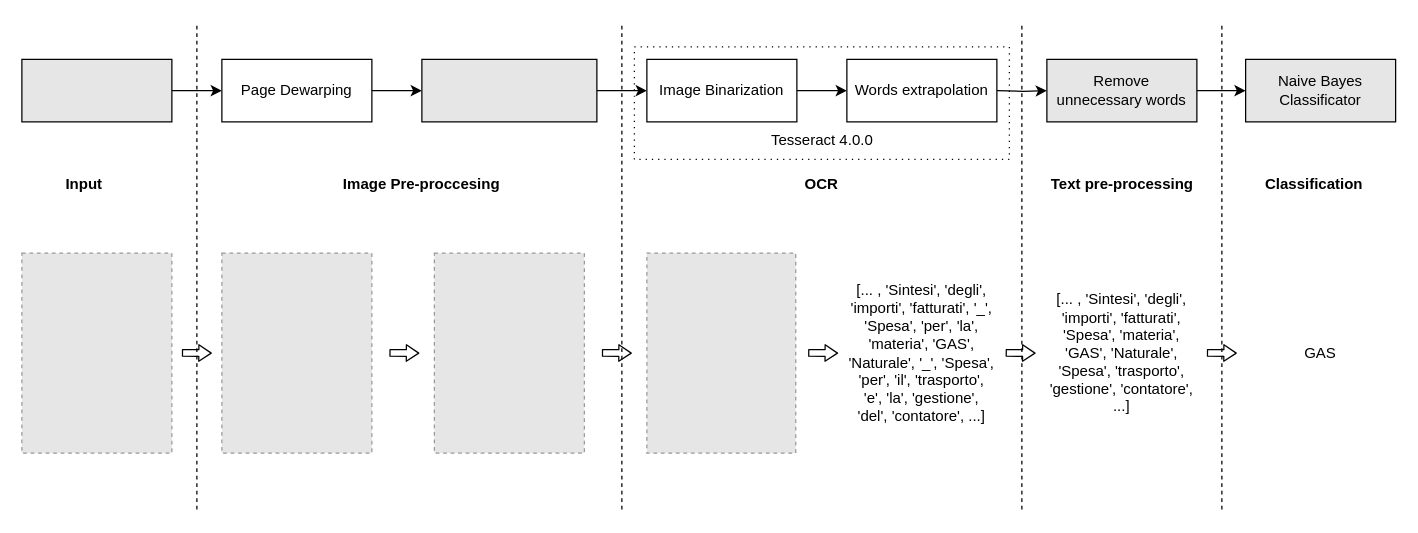
The diagram is 1418 pixels wide and 533 high, and some of its shapes have lost their labels. Grey dashed boxes stand in for pictures. Each missing label, with the centre of its shape:
"Brightness & Contrast Enhancer" belongs at point 509,90.
"Camera Taken Picture" belongs at point 96,90.
